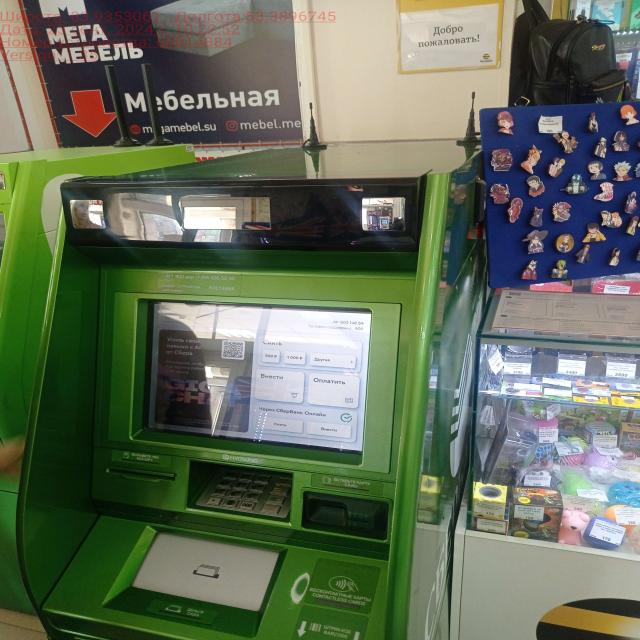bank: (15, 136, 485, 640)
